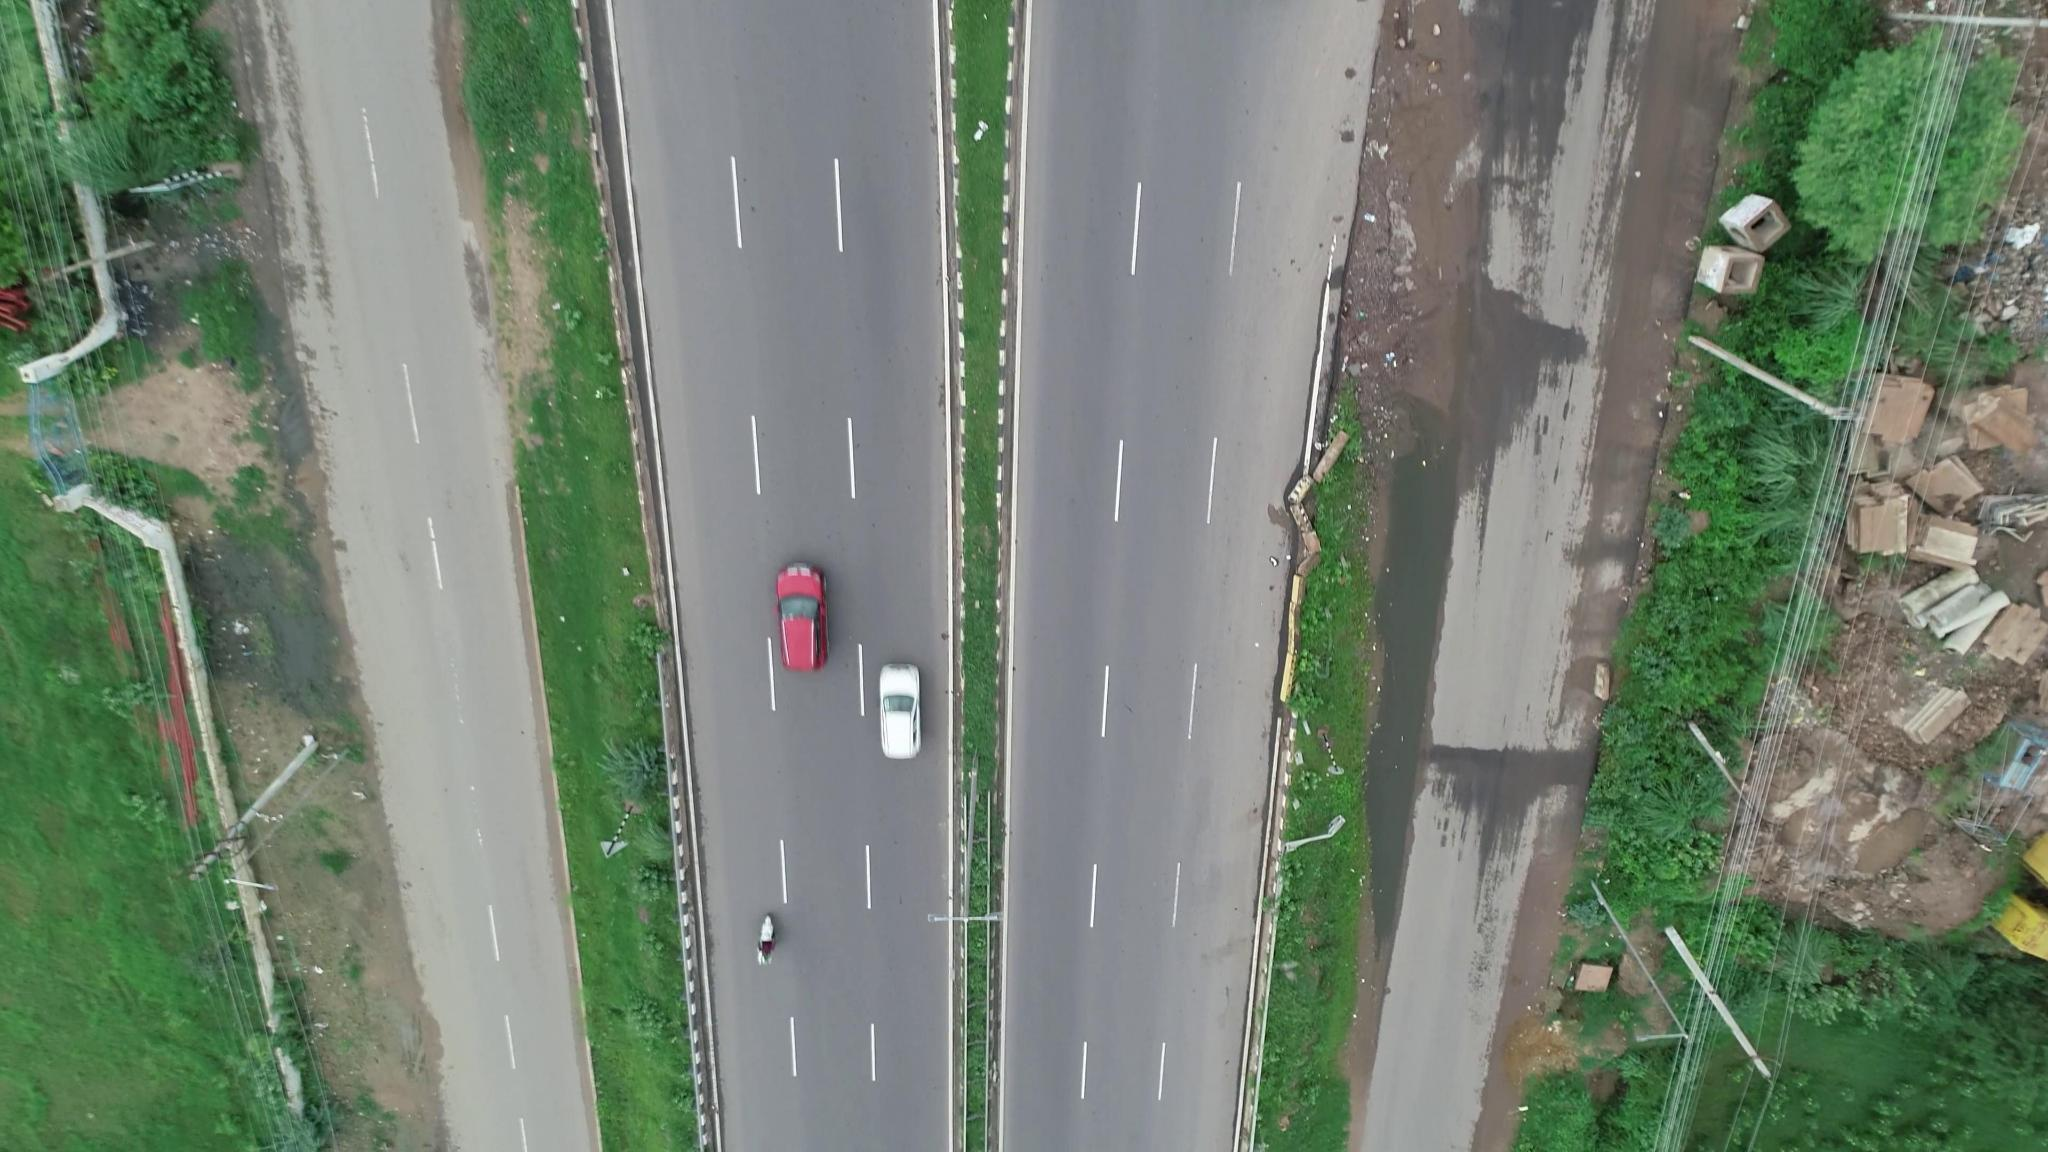Waterlogging: (1363, 454, 1473, 942)
